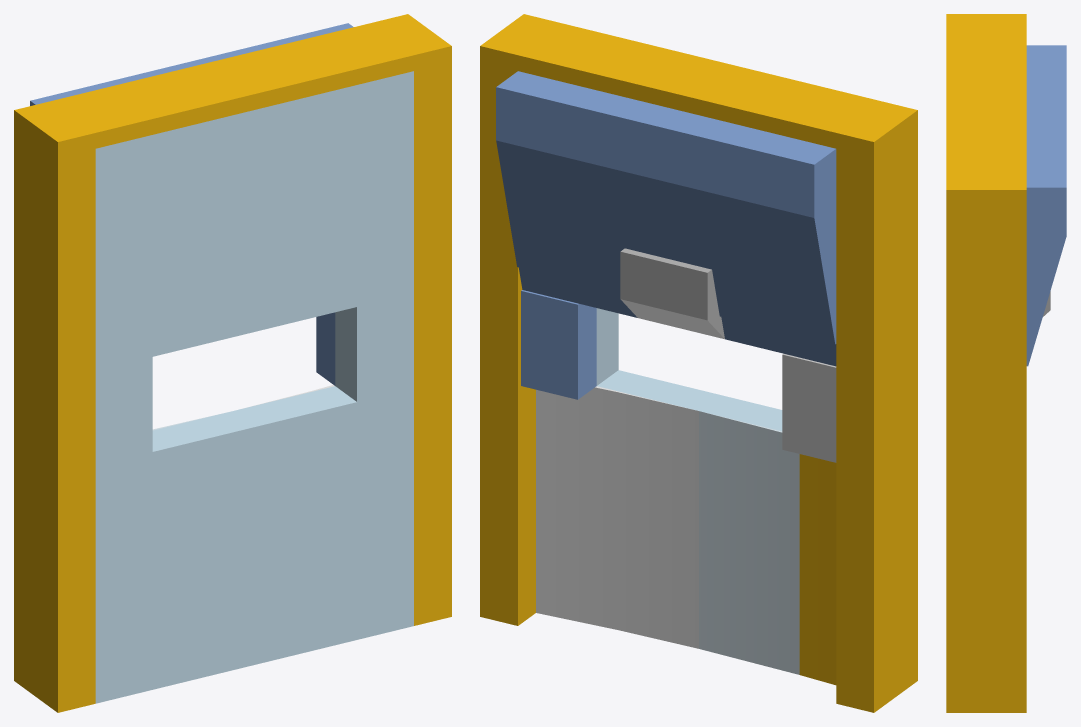
Rendered from GuiterNuttDigRouterTemplate.gltf.
3 views of the same model, side by side, from view 1: azimuth 30°, elevation 25°; view 2: azimuth 150°, elevation 25°; view 3: azimuth 270°, elevation 25° (orthographic). The views are drawn at different scales.
Parts seen in each view (by area): view 1: Part 1, Part 8, Part 4, Part 3; view 2: Part 8, Part 4, Part 5, Part 6, Part 7, Part 3, Part 9, Part 1, Part 2; view 3: Part 8, Part 4.
Boxes of the visible parts, x1=… form: Part 1: x1=95, y1=71, x2=413, y2=703; Part 8: x1=14, y1=14, x2=451, y2=712; Part 4: x1=30, y1=23, x2=353, y2=105; Part 3: x1=316, y1=312, x2=335, y2=385; Part 8: x1=480, y1=14, x2=917, y2=712; Part 4: x1=496, y1=71, x2=836, y2=366; Part 5: x1=536, y1=386, x2=698, y2=648; Part 6: x1=699, y1=411, x2=799, y2=674; Part 7: x1=799, y1=454, x2=836, y2=685; Part 3: x1=521, y1=290, x2=596, y2=399; Part 9: x1=620, y1=248, x2=724, y2=339; Part 1: x1=596, y1=308, x2=782, y2=431; Part 2: x1=782, y1=354, x2=836, y2=462; Part 8: x1=946, y1=14, x2=1026, y2=712; Part 4: x1=1026, y1=45, x2=1066, y2=366.
Bounding box in the file's own units: 0.052 × 0.072 × 0.015.
